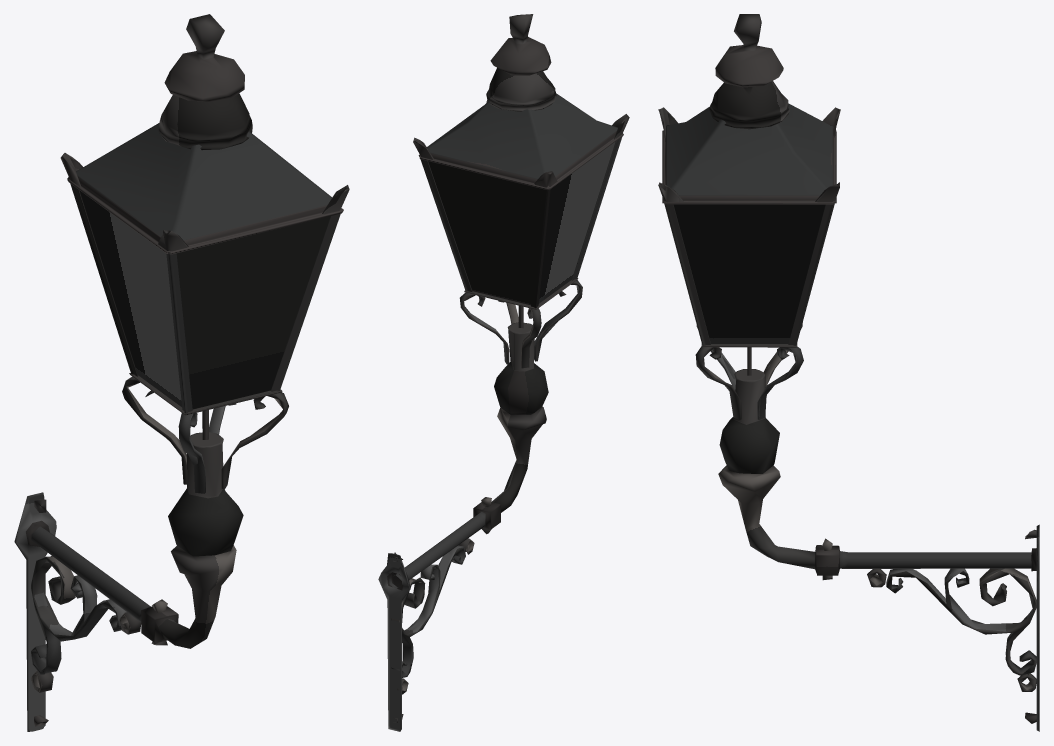
The model's file is ph_streetlamp_2.glb.
3 views of the same model, side by side, from view 1: azimuth 30°, elevation 25°; view 2: azimuth 150°, elevation 25°; view 3: azimuth 270°, elevation 25° (orthographic). The views are drawn at different scales.
Visible parts, largest first — view 1: ph_streetlamp_2; view 2: ph_streetlamp_2; view 3: ph_streetlamp_2.
Part boxes in pixels (<box>): ph_streetlamp_2: <box>14,14,349,731</box>; ph_streetlamp_2: <box>378,14,629,731</box>; ph_streetlamp_2: <box>658,14,1039,731</box>.
Size of the model in its own units: 0.3863 by 1.66 by 0.8067.
Materials: 3 (3 with a texture image).
